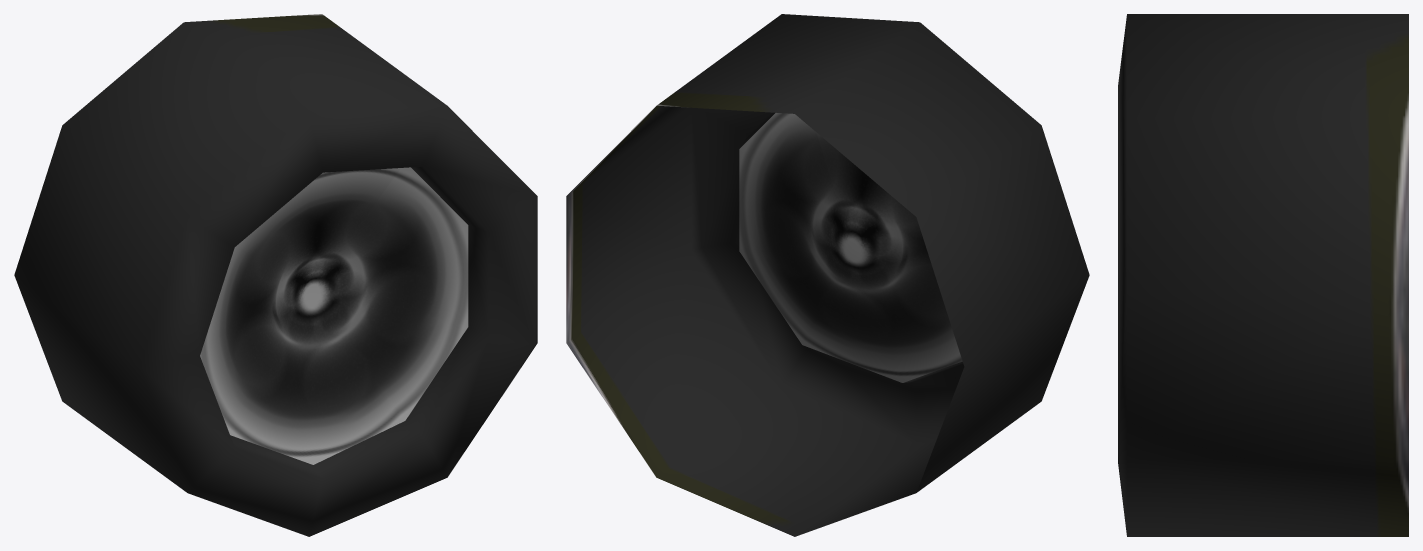
The model's file is RuedaFrontal 1.FBX.
The picture shows the model from 3 angles, left to right: view 1: azimuth 30°, elevation 25°; view 2: azimuth 150°, elevation 25°; view 3: azimuth 270°, elevation 25°; orthographic projection. The views are drawn at different scales.
Parts seen in each view (by area): view 1: Object003; view 2: Object003; view 3: Object003.
Part boxes in pixels (bbox=[...]): Object003: bbox=[14, 14, 537, 536]; Object003: bbox=[566, 14, 1089, 536]; Object003: bbox=[1118, 14, 1408, 536].
Bounding box in the file's own units: 22.91 × 12.88 × 23.27.
